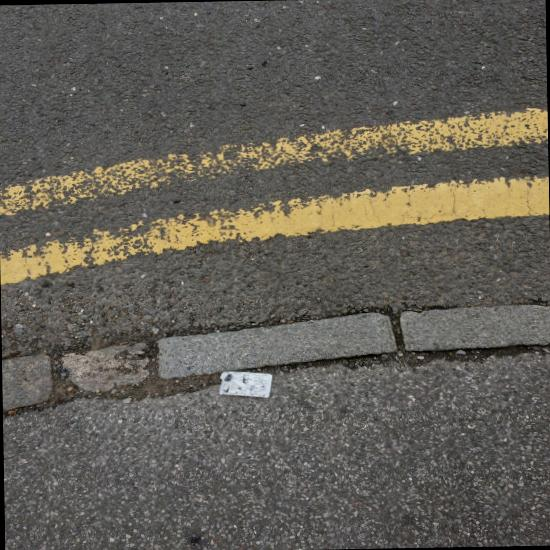Aluminium blister pack: (219, 371, 272, 397)
